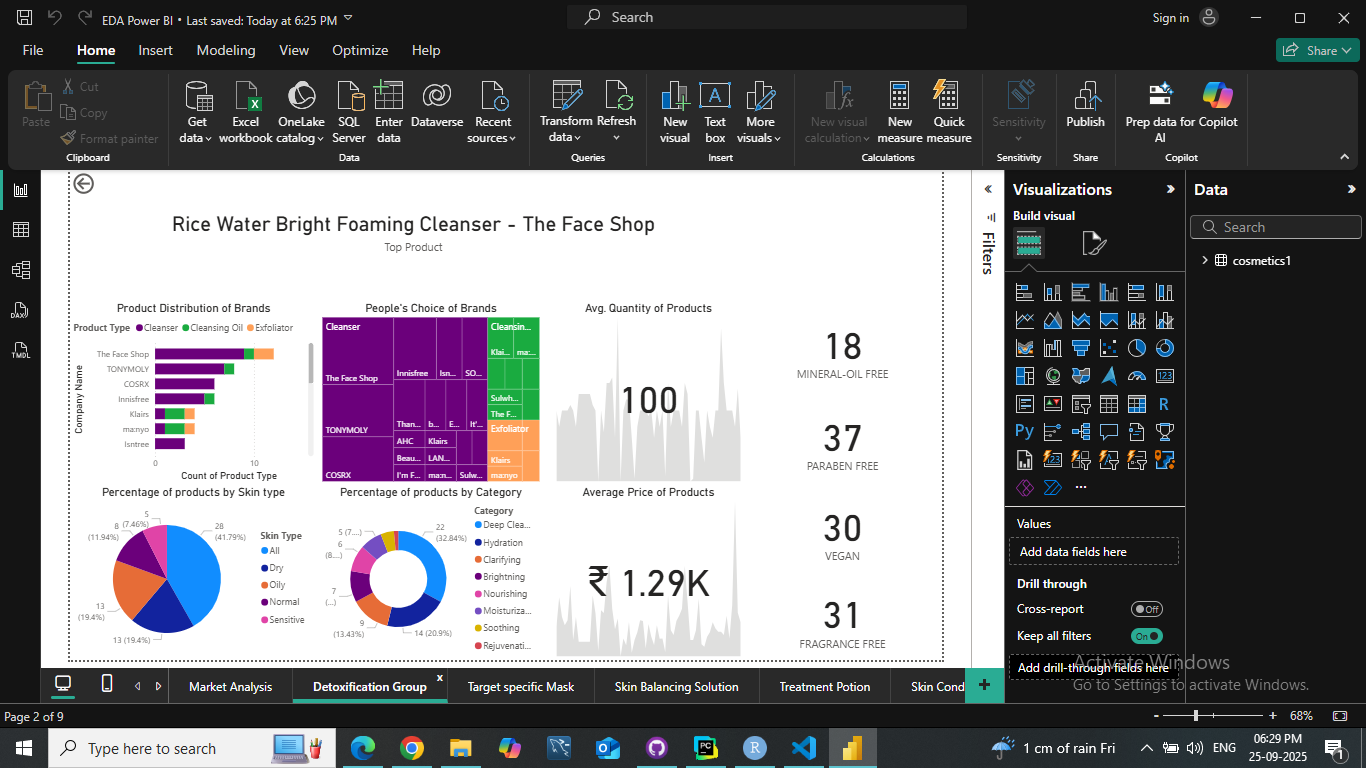

The page's visual inventory and layout, read from the dashboard file:
{"tool":"powerbi","page":{"name":"Detoxification Group","canvas":[1280,720],"ordinal":1},"visuals":[{"type":"kpi","title":"Average Price of Products","fields":{"Indicator":["Avg(cosmetics1.Price 1)"],"TrendLine":["cosmetics1.Product Name"]},"box":[709.7,462.9,280.7,257.1],"z":0},{"type":"barChart","title":"Product Distribution of Brands","fields":{"Series":["cosmetics1.Product Type"],"Y":["CountNonNull(cosmetics1.Product Type)"],"Category":["cosmetics1.Company Name"]},"box":[0,192.5,362.9,270.4],"z":1},{"type":"kpi","title":"Avg. Quantity of Products","fields":{"Indicator":["Median(cosmetics1.Smallest Quantity)"],"TrendLine":["cosmetics1.Product Name"]},"box":[709.7,192.5,280.7,270.4],"z":2},{"type":"pieChart","title":"Percentage of products by Skin type","fields":{"Category":["cosmetics1.Skin Type"],"Y":["CountNonNull(cosmetics1.Product Type)"]},"box":[0,462.9,362.9,257.1],"z":3},{"type":"donutChart","title":"Percentage of products by Category","fields":{"Y":["CountNonNull(cosmetics1.Product Type)"],"Category":["cosmetics1.Category"]},"box":[365.9,462.9,329.1,257.1],"z":4},{"type":"treemap","title":"People''s Choice of Brands","fields":{"Group":["cosmetics1.Product Type"],"Values":["Count(cosmetics1.Total Reviews)"],"Details":["cosmetics1.Company Name"]},"box":[365.9,192.5,329.1,270.4],"z":5},{"type":"actionButton","box":[0,0,100,40],"z":7},{"type":"card","fields":{"Values":["CountNonNull(cosmetics1.Product Type)"]},"box":[990.4,330.6,289.5,132.2],"z":9},{"type":"card","fields":{"Values":["CountNonNull(cosmetics1.Product Type)"]},"box":[990.4,192.5,289.5,138.1],"z":10},{"type":"card","fields":{"Values":["CountNonNull(cosmetics1.Product Type)"]},"box":[990.4,595.1,289.5,124.9],"z":11},{"type":"card","fields":{"Values":["CountNonNull(cosmetics1.Product Type)"]},"box":[990.4,462.9,289.5,132.2],"z":12},{"type":"card","fields":{"Values":["cosmetics1.Top Product"]},"box":[99.9,20.6,809.6,133.7],"z":13}]}

Visuals, with their boxes on the page's 1280x720 design canvas (x1, y1, x2, y2). These are canvas units, not pixel positions in the 1366x768 screenshot, which may show the page scaled, cropped or inside an application window:
"Average Price of Products" kpi: (710,463,990,720)
"Product Distribution of Brands" barChart: (0,192,363,463)
"Avg. Quantity of Products" kpi: (710,192,990,463)
"Percentage of products by Skin type" pieChart: (0,463,363,720)
"Percentage of products by Category" donutChart: (366,463,695,720)
"People''s Choice of Brands" treemap: (366,192,695,463)
actionButton: (0,0,100,40)
card - CountNonNull(cosmetics1.Product Type): (990,331,1280,463)
card - CountNonNull(cosmetics1.Product Type): (990,192,1280,331)
card - CountNonNull(cosmetics1.Product Type): (990,595,1280,720)
card - CountNonNull(cosmetics1.Product Type): (990,463,1280,595)
card - cosmetics1.Top Product: (100,21,910,154)
